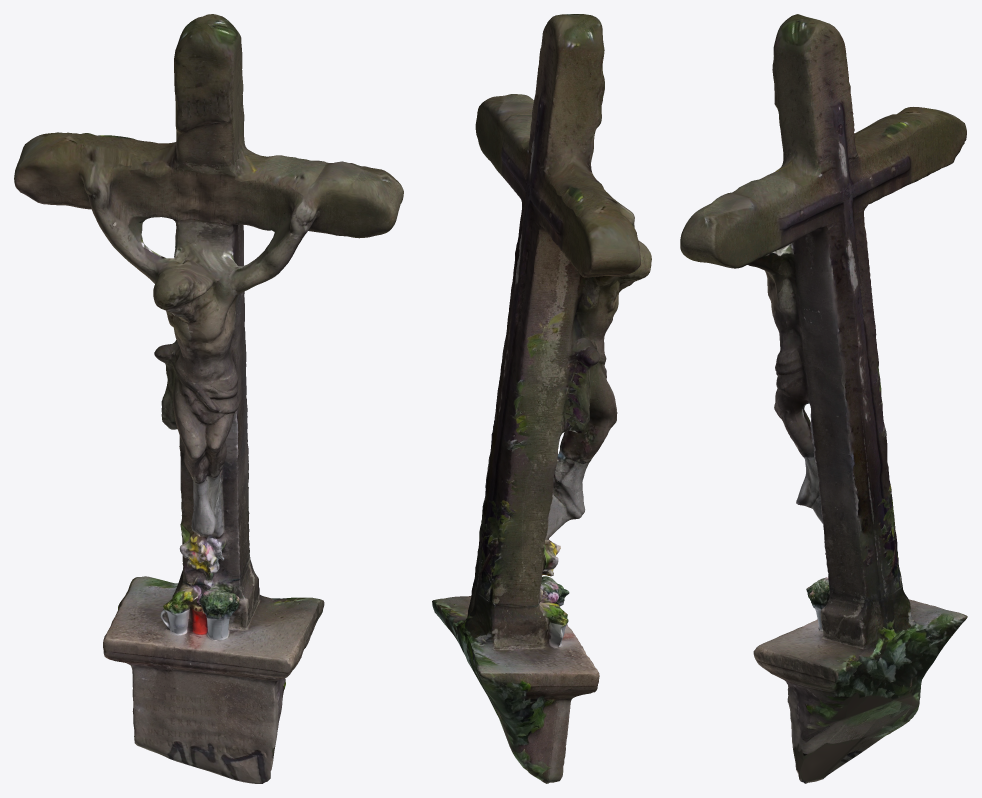
3 renders of one model, left to right at view 1: azimuth 30°, elevation 25°; view 2: azimuth 150°, elevation 25°; view 3: azimuth 270°, elevation 25°, orthographic. The views are drawn at different scales.
Parts seen in each view (by area): view 1: 673c4c1f-e91c-44b8-9575-5a3322498165_0; view 2: 673c4c1f-e91c-44b8-9575-5a3322498165_0; view 3: 673c4c1f-e91c-44b8-9575-5a3322498165_0.
Boxes of the visible parts, x1,y1,x2,y2 form: 673c4c1f-e91c-44b8-9575-5a3322498165_0: (14,14,403,783); 673c4c1f-e91c-44b8-9575-5a3322498165_0: (432,14,651,783); 673c4c1f-e91c-44b8-9575-5a3322498165_0: (680,14,967,783).
Bounding box in the file's own units: 0.4876 × 1.3 × 0.4572.
1 material, 1 textured.
